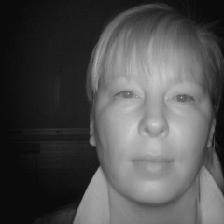normal: (82, 5, 224, 203)
